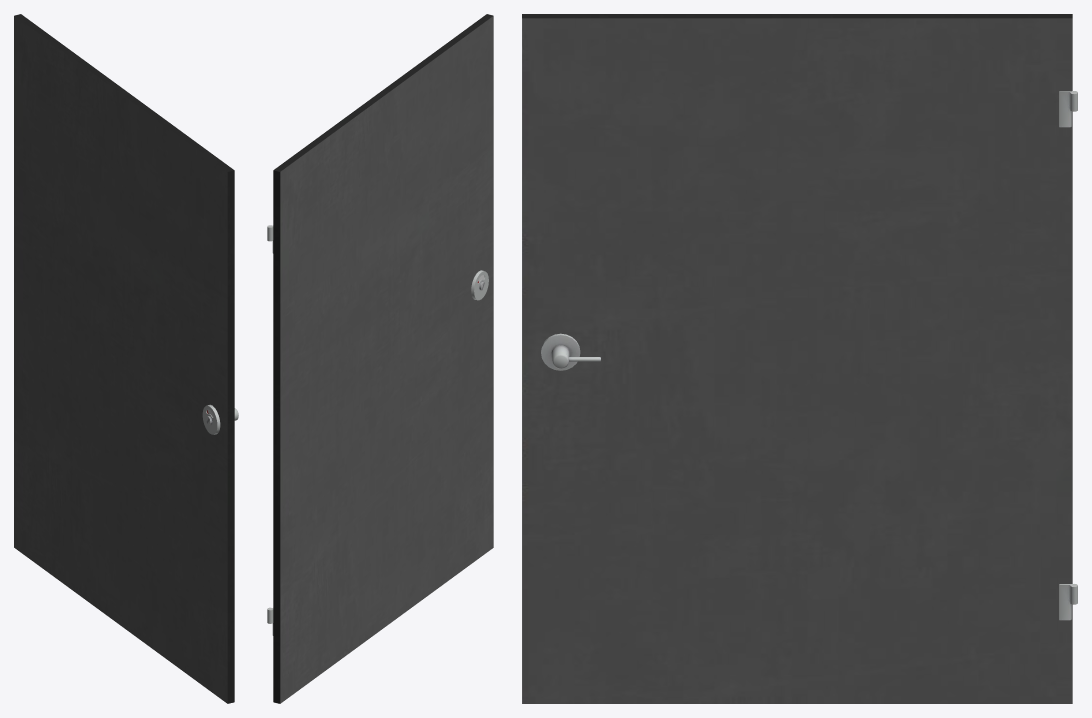
The model's file is SM_Bathroom_Stalls_Door_01.glb.
3 views of the same model, side by side, from view 1: azimuth 30°, elevation 25°; view 2: azimuth 150°, elevation 25°; view 3: azimuth 270°, elevation 25° (orthographic). The views are drawn at different scales.
Visible parts, largest first — view 1: SM_Bathroom_Stalls_Door_01; view 2: SM_Bathroom_Stalls_Door_01; view 3: SM_Bathroom_Stalls_Door_01.
Boxes of the visible parts, box(x1,y1,x2,y2) form: SM_Bathroom_Stalls_Door_01: box(14, 14, 238, 703); SM_Bathroom_Stalls_Door_01: box(267, 14, 493, 703); SM_Bathroom_Stalls_Door_01: box(522, 14, 1077, 703).
Bounding box in the file's own units: 0.0932 × 1.69 × 1.24.
Materials: 1 (1 with a texture image).
